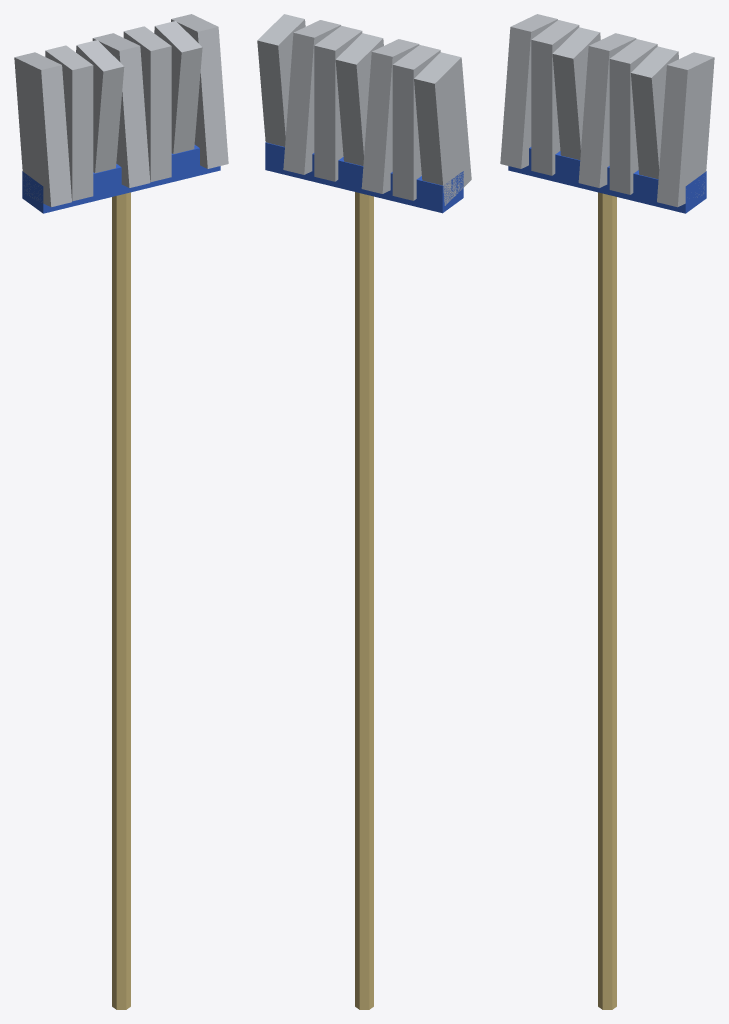
File: w_mop.glb
The picture shows the model from 3 angles, left to right: view 1: azimuth 30°, elevation 25°; view 2: azimuth 150°, elevation 25°; view 3: azimuth 330°, elevation 25°; orthographic projection.
Visible parts, largest first — view 1: mop; view 2: mop; view 3: mop.
Part boxes in pixels (x1,y1,x2,y2): mop: (14, 14, 228, 1009); mop: (257, 14, 471, 1009); mop: (500, 14, 714, 1009).
Size of the model in its own units: 0.34 by 1.77 by 0.1225.
